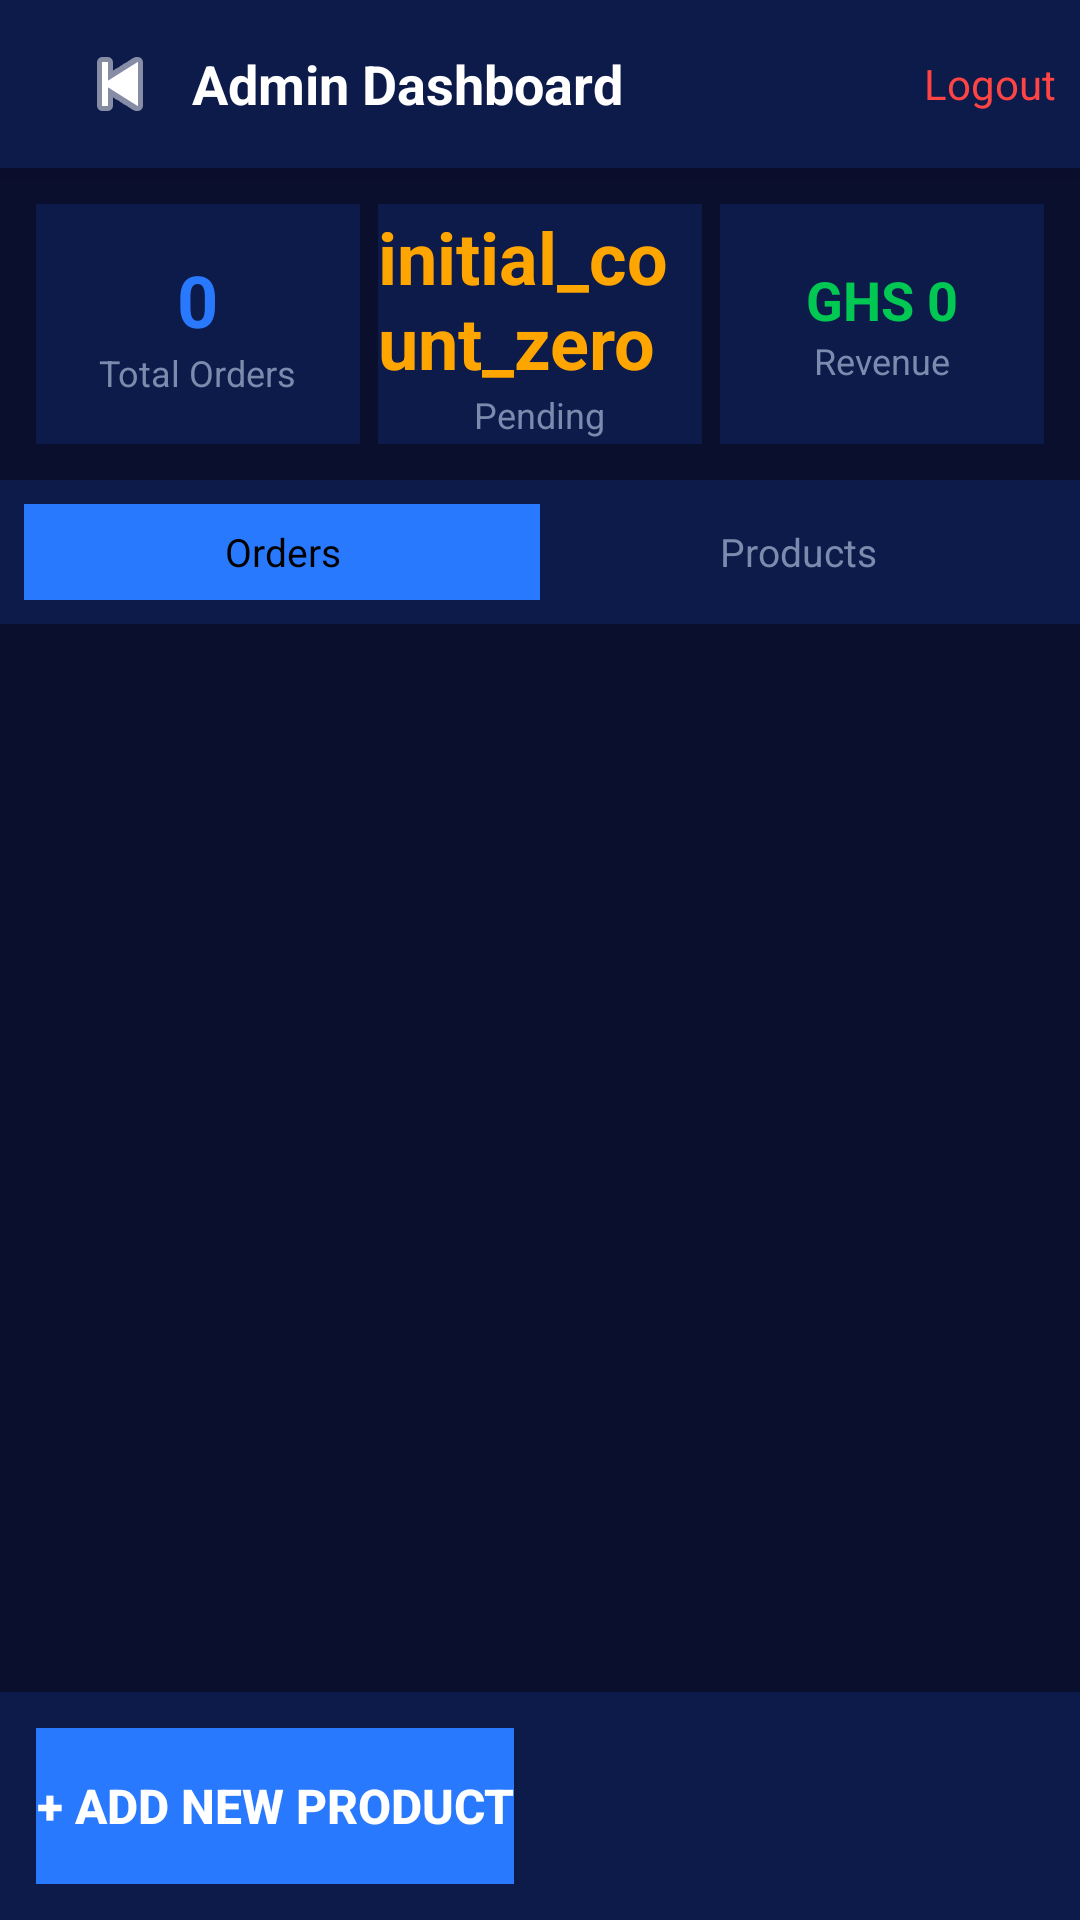

Named icons in this screenshot (1080 x 1920) and their bounding boxes, (x1, y1, x2, y2):
Back: (97, 57, 143, 111)
